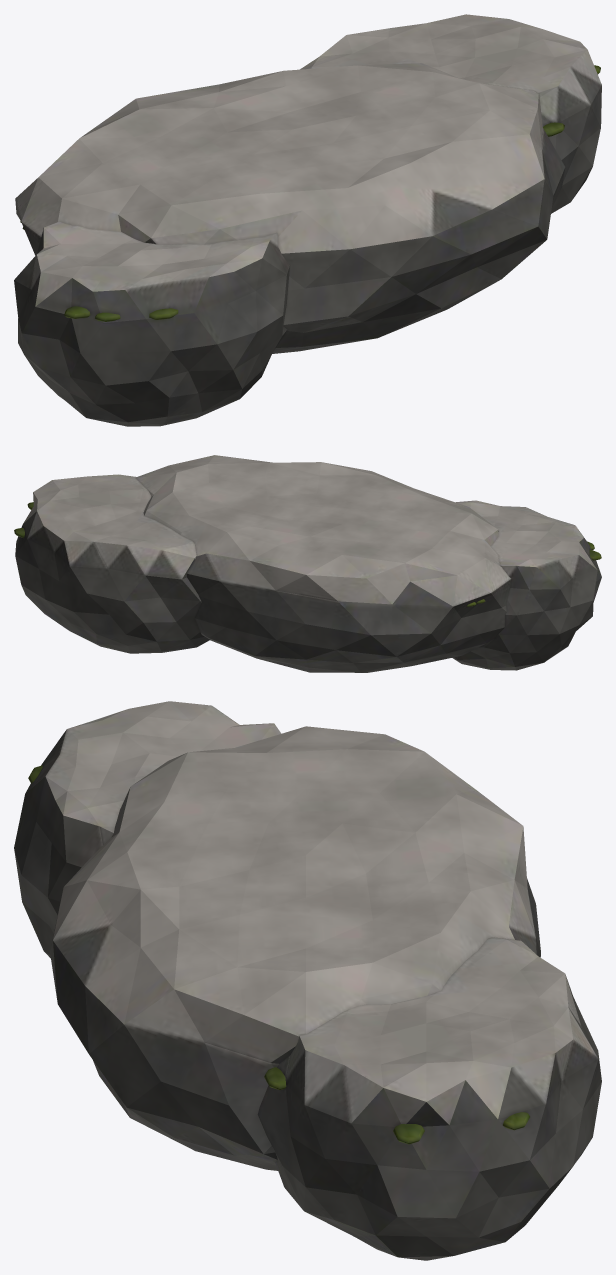
The model's file is sea_rock.glb.
3 renders of one model, top to bottom at view 1: azimuth 30°, elevation 25°; view 2: azimuth 150°, elevation 25°; view 3: azimuth 270°, elevation 25°, orthographic. The views are drawn at different scales.
Visible parts, largest first — view 1: sea_rock; view 2: sea_rock; view 3: sea_rock.
Boxes of the visible parts, box(x1,y1,x2,y2) form: sea_rock: box(14, 14, 601, 426); sea_rock: box(14, 455, 601, 672); sea_rock: box(14, 701, 601, 1260).
Bounding box in the file's own units: 2.5 × 0.7292 × 1.46.
1 material, 1 textured.
